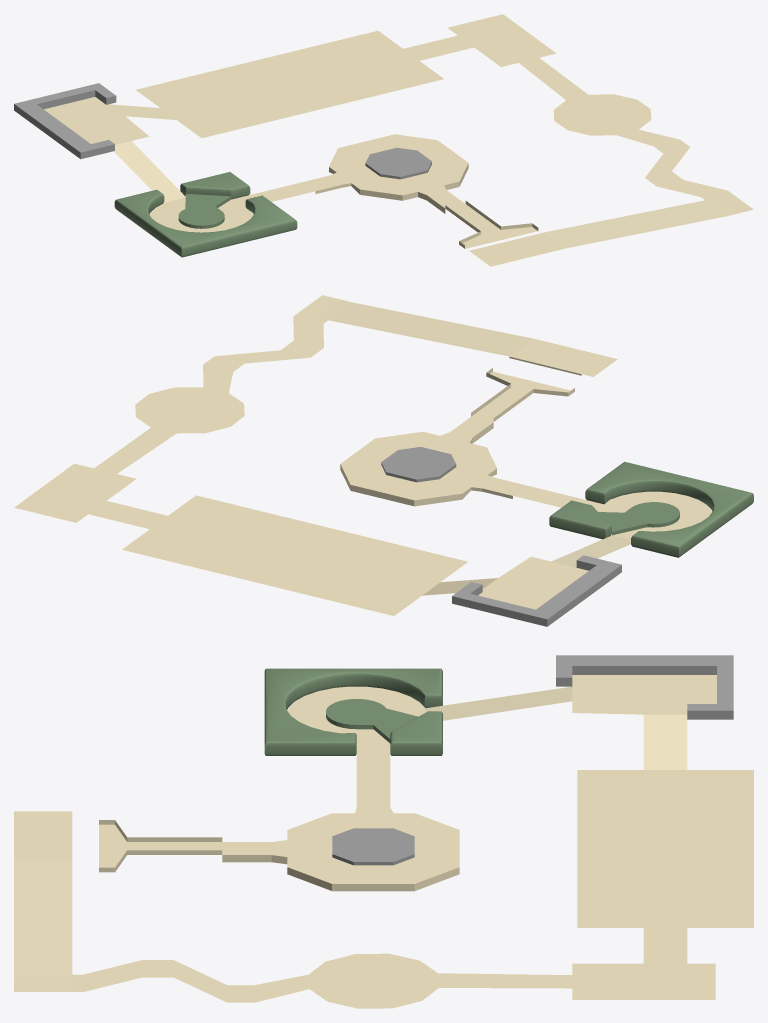
File: Circuit_MK.fbx
3 renders of one model, top to bottom at view 1: azimuth 30°, elevation 25°; view 2: azimuth 150°, elevation 25°; view 3: azimuth 270°, elevation 25°, orthographic. The views are drawn at different scales.
Parts seen in each view (by area): view 1: polySurface4; view 2: polySurface4; view 3: polySurface4.
Boxes of the visible parts, x1,y1,x2,y2 form: polySurface4: (14, 14, 753, 266); polySurface4: (14, 295, 753, 626); polySurface4: (14, 655, 753, 1008).
Size of the model in its own units: 1191 by 64.27 by 1135.
